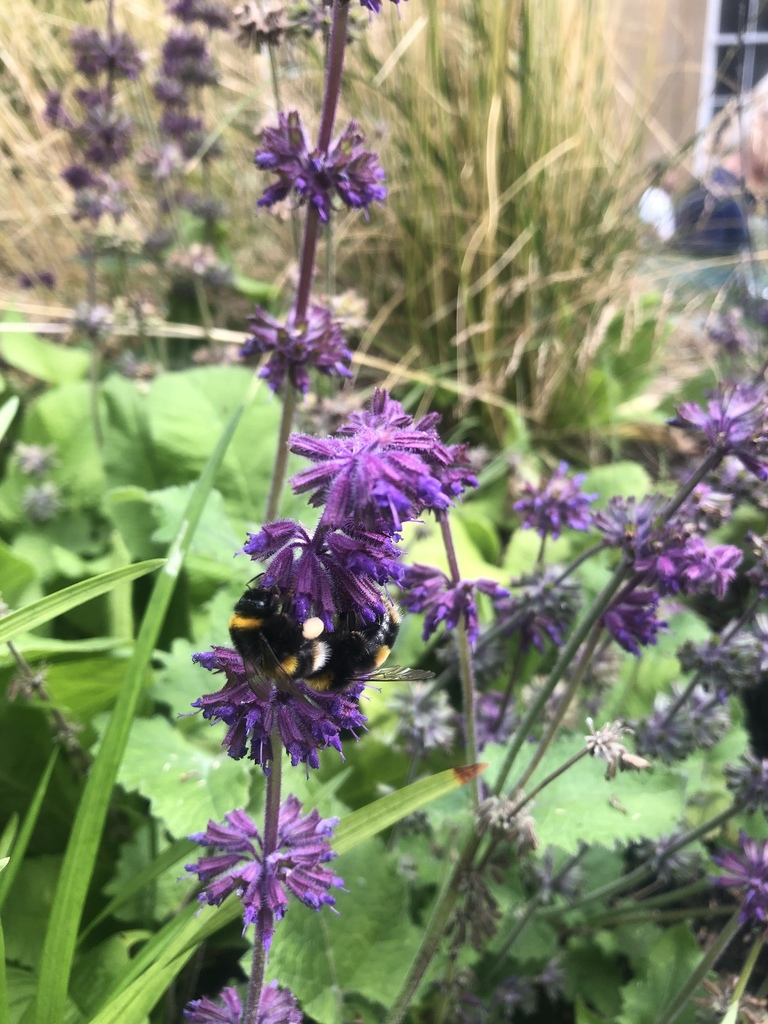bumblebee: (228, 574, 436, 707)
